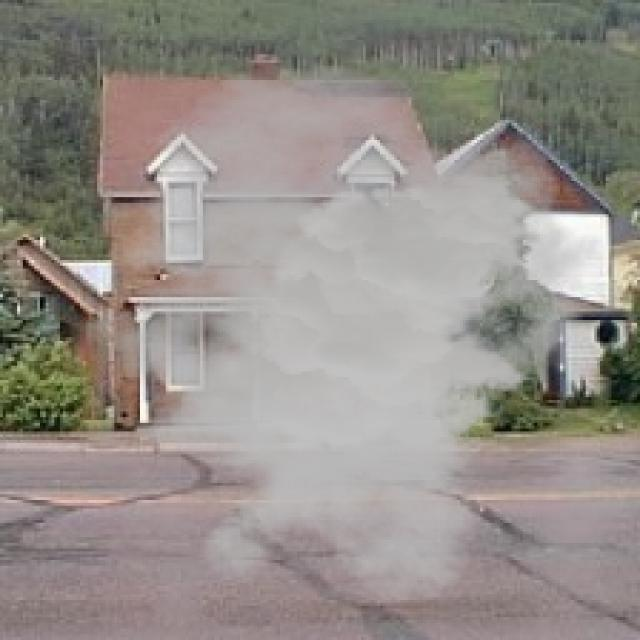Smoke: (49, 63, 606, 606)
